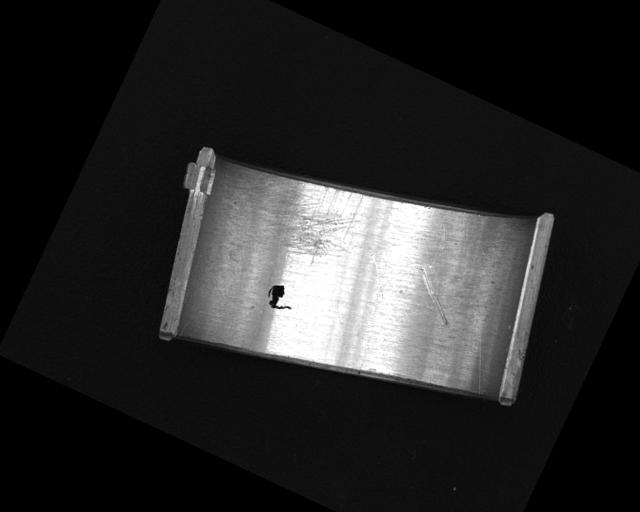blot: (262, 280, 299, 316)
nick: (323, 251, 409, 372), (441, 302, 515, 396), (403, 267, 466, 327), (415, 220, 452, 281)
scratch: (229, 151, 373, 277)
